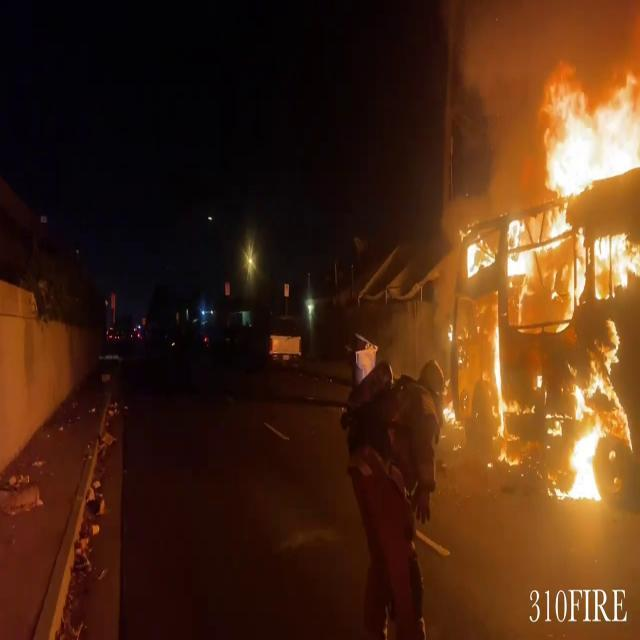Fire: (458, 46, 640, 496)
